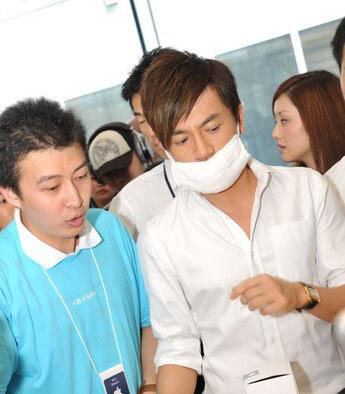NONE: (30, 160, 94, 240), (273, 110, 321, 165)
WRONG: (158, 100, 252, 194)
